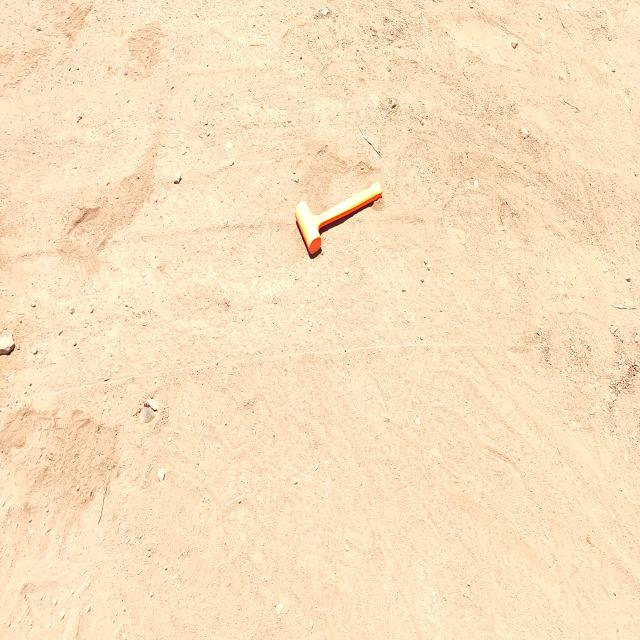Orange_hammer: (294, 180, 382, 257)
